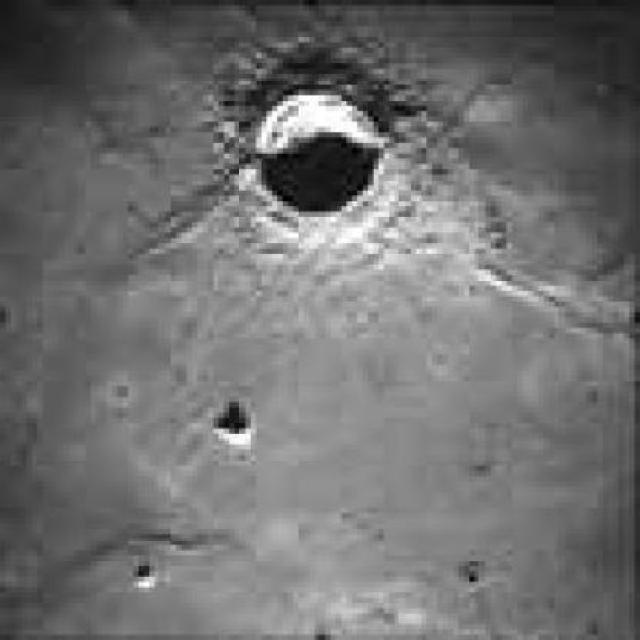crater: (254, 97, 386, 220)
